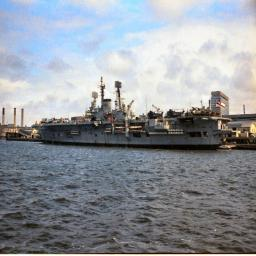Portanaves: (32, 76, 234, 148)
